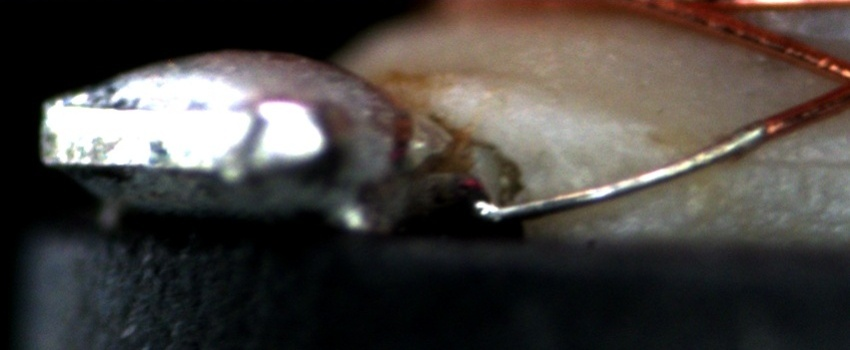CL: (806, 50, 850, 120)
DL: (754, 132, 849, 188)
TS: (477, 120, 767, 221)
